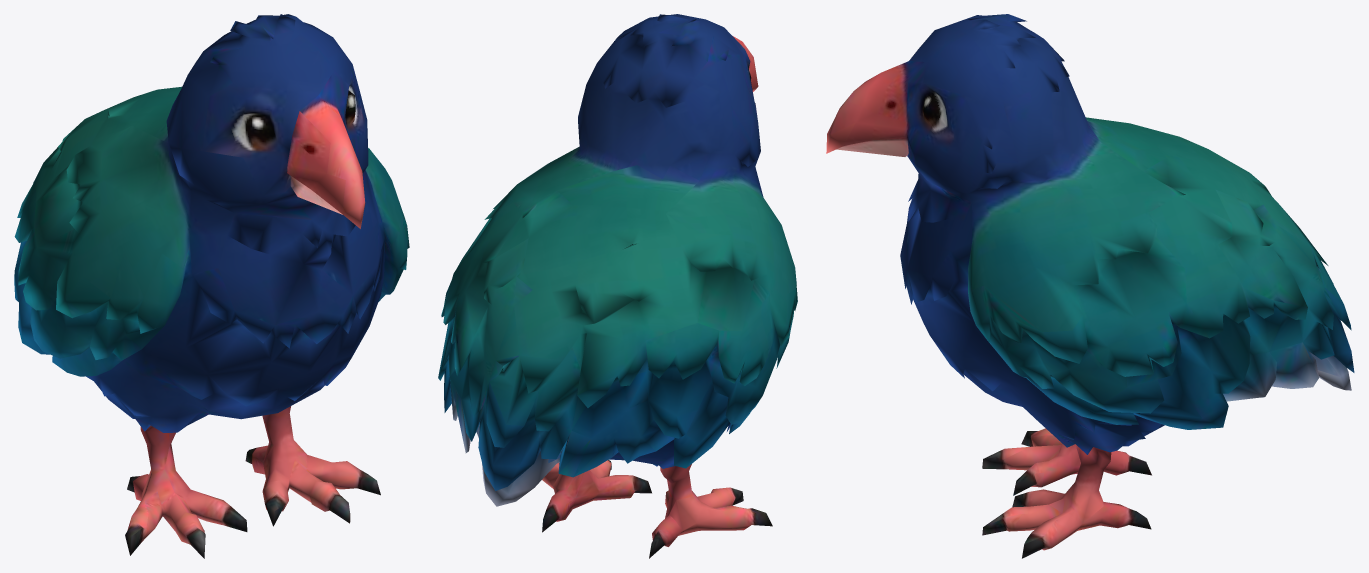
File: takahe.glb
3 views of the same model, side by side, from view 1: azimuth 30°, elevation 25°; view 2: azimuth 150°, elevation 25°; view 3: azimuth 270°, elevation 25° (orthographic). The views are drawn at different scales.
Parts seen in each view (by area): view 1: model; view 2: model; view 3: model.
Part boxes in pixels (x1,y1,x2,y2): model: [14, 14, 409, 558]; model: [438, 14, 797, 558]; model: [826, 14, 1354, 558].
Size of the model in its own units: 1.28 by 1.89 by 1.87.
1 material, 1 textured.
